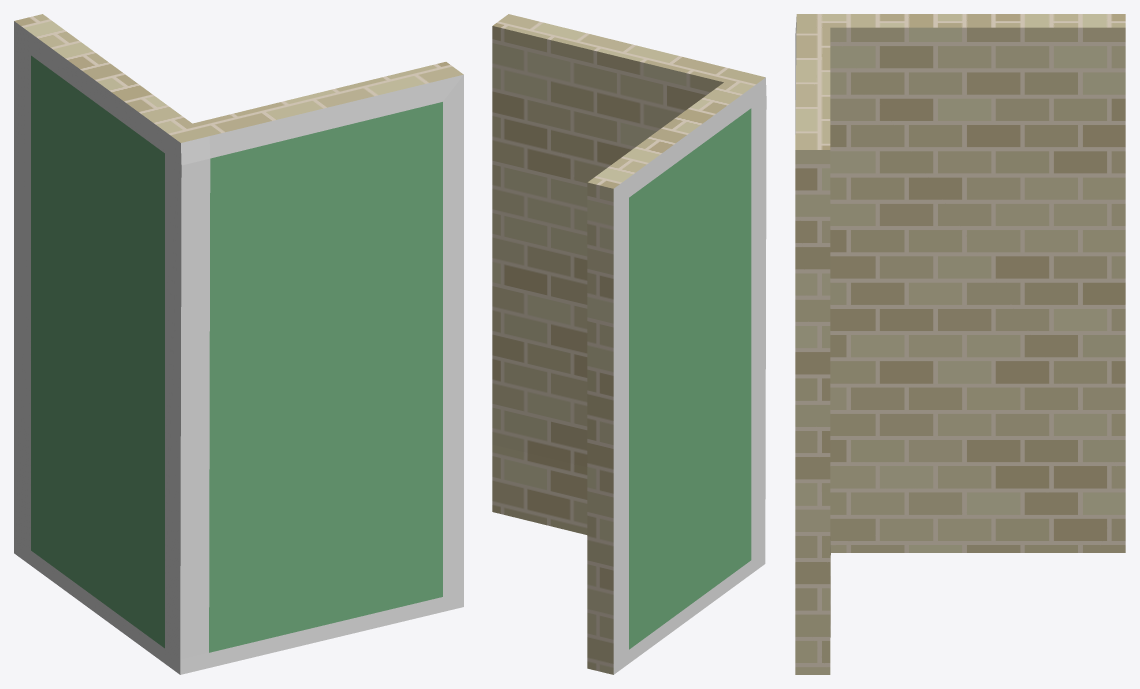
Rendered from Corner top A.fbx.
3 renders of one model, left to right at view 1: azimuth 30°, elevation 25°; view 2: azimuth 150°, elevation 25°; view 3: azimuth 270°, elevation 25°, orthographic. The views are drawn at different scales.
Visible parts, largest first — view 1: Corner-Top A; view 2: Corner-Top A; view 3: Corner-Top A.
Part boxes in pixels (x1,y1,x2,y2): Corner-Top A: (14,14,463,674); Corner-Top A: (492,14,766,674); Corner-Top A: (795,14,1125,674).
Size of the model in its own units: 400 by 721 by 411.
